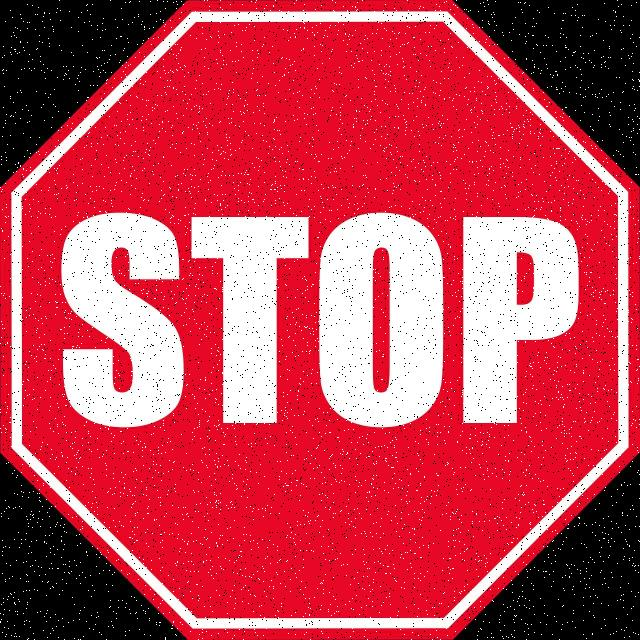stop: (23, 0, 632, 640)
